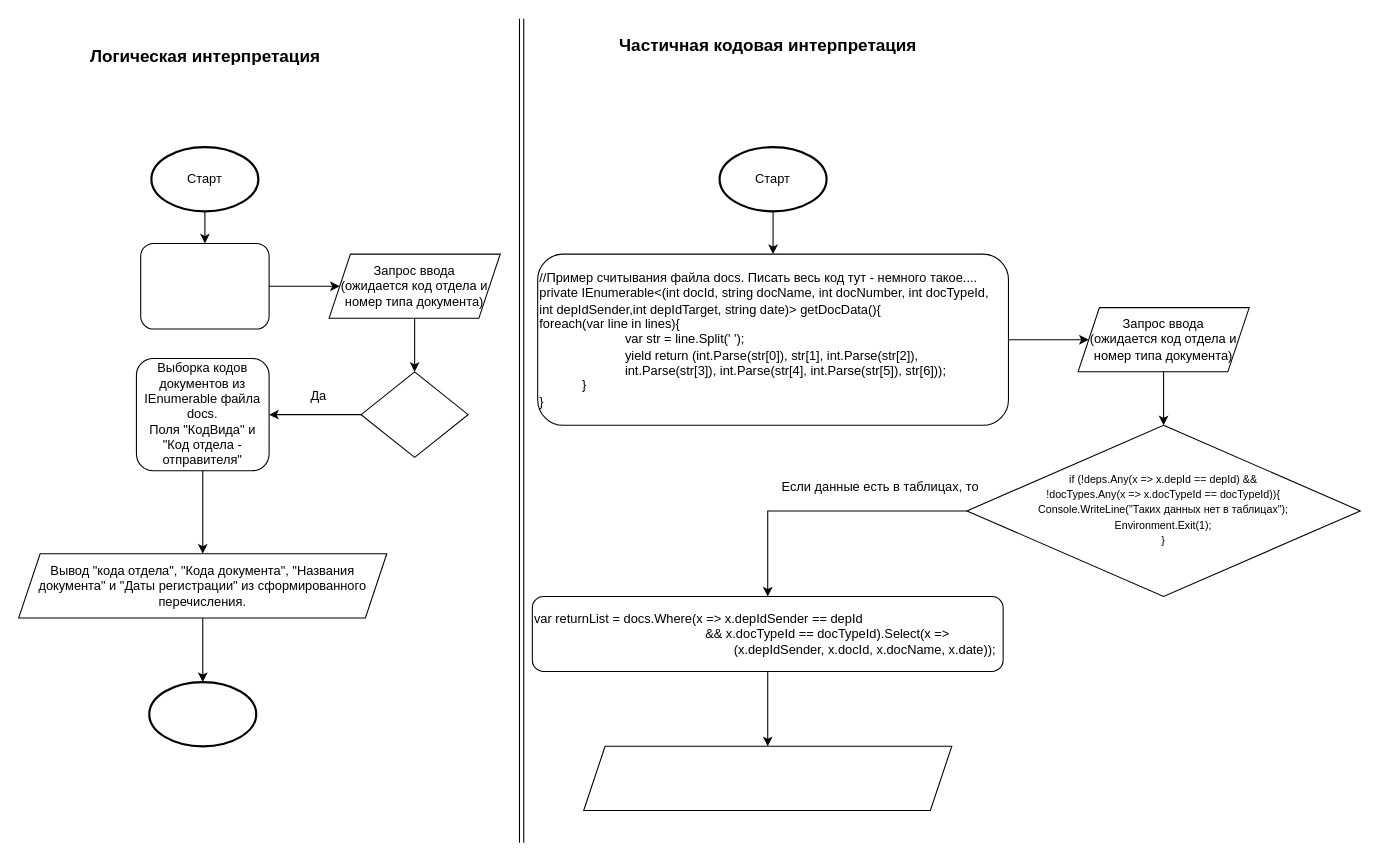
Some shapes in this 1379 by 861 pixel diagram are drawn without their labels. Here are the shapes that lost their labels. From the top down, the centre of each, then its label:
(204,285): Считывание и группировка данных из файлов в IEnumerable
(414,414): Ввод корректен?
(202,714): Конец
(767,778): foreach (var item in returnList){ Console.WriteLine(item); //условность }
